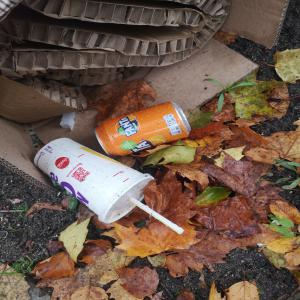Can: (91, 100, 195, 159)
Cup: (24, 135, 167, 235)
